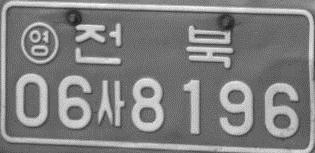0: (14, 72, 48, 128)
1: (176, 78, 210, 134)
6: (57, 74, 92, 130), (263, 82, 298, 138)
8: (130, 77, 165, 132)
9: (217, 79, 253, 135)
사: (97, 79, 124, 128)
영: (19, 21, 59, 65)
전북_D: (73, 23, 233, 68)
